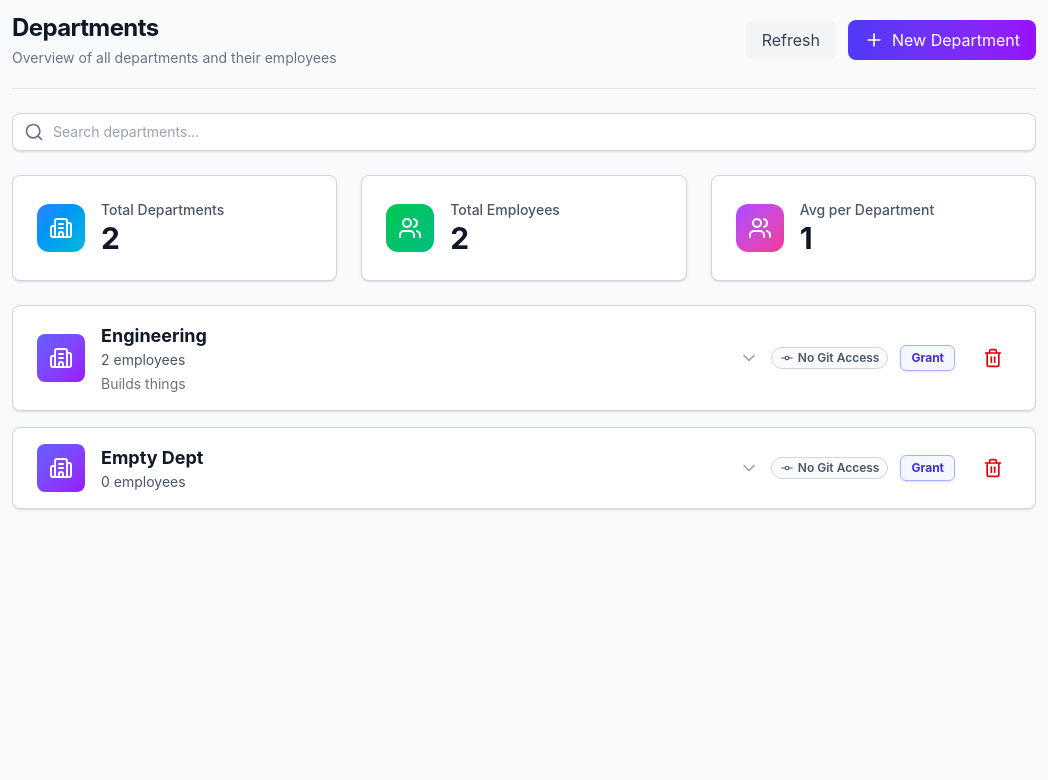
DepartmentsPage coverage › expands and collapses department to show employees with complex skills
The image size is (1048, 780).
Expected: the heading "Engineering" is shown, [101,325,207,346]
Note: Click header to expand
Click the button "Engineering 2 employees Builds things" at (61, 358), box [37,322,759,394]
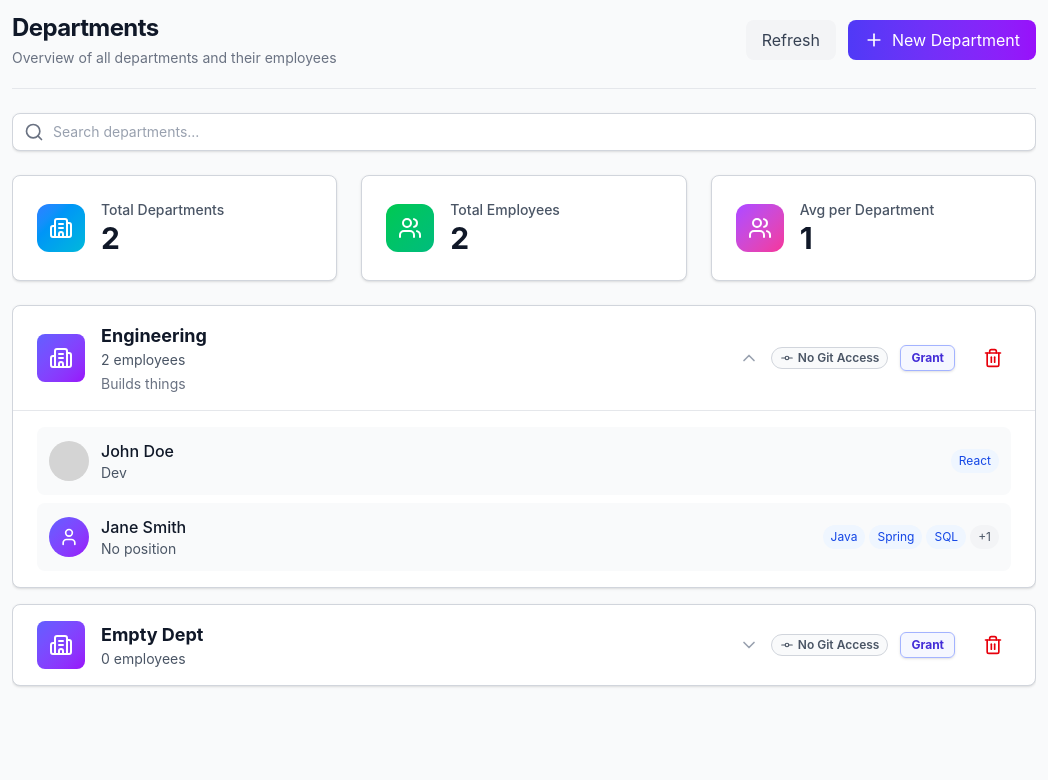
Expected: the text "John Doe" is shown, [101,441,174,461]
Expected: the text "React" is shown, [951,449,999,473]
Expected: the text "Jane Smith" is shown, [101,517,186,537]
Note: Click Empty Dept
Click the button "Empty Dept 0 employees" at (61, 645), box [37,621,759,669]
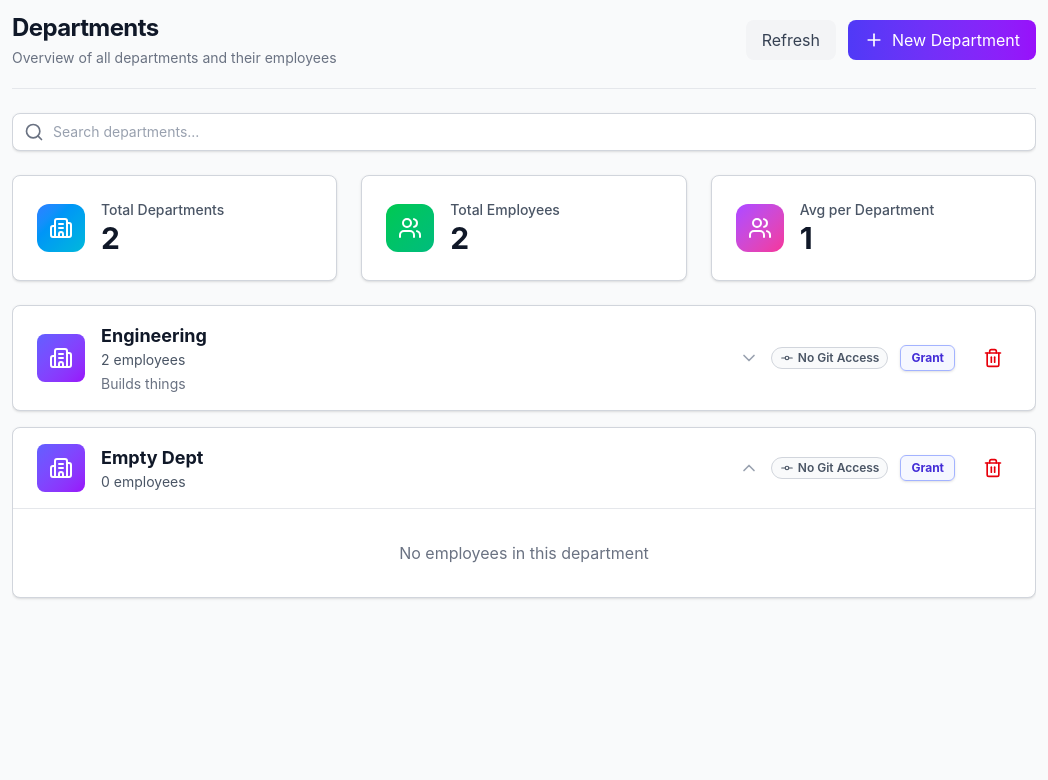
Expected: the text "No employees in this department" is shown, [399,543,649,563]
